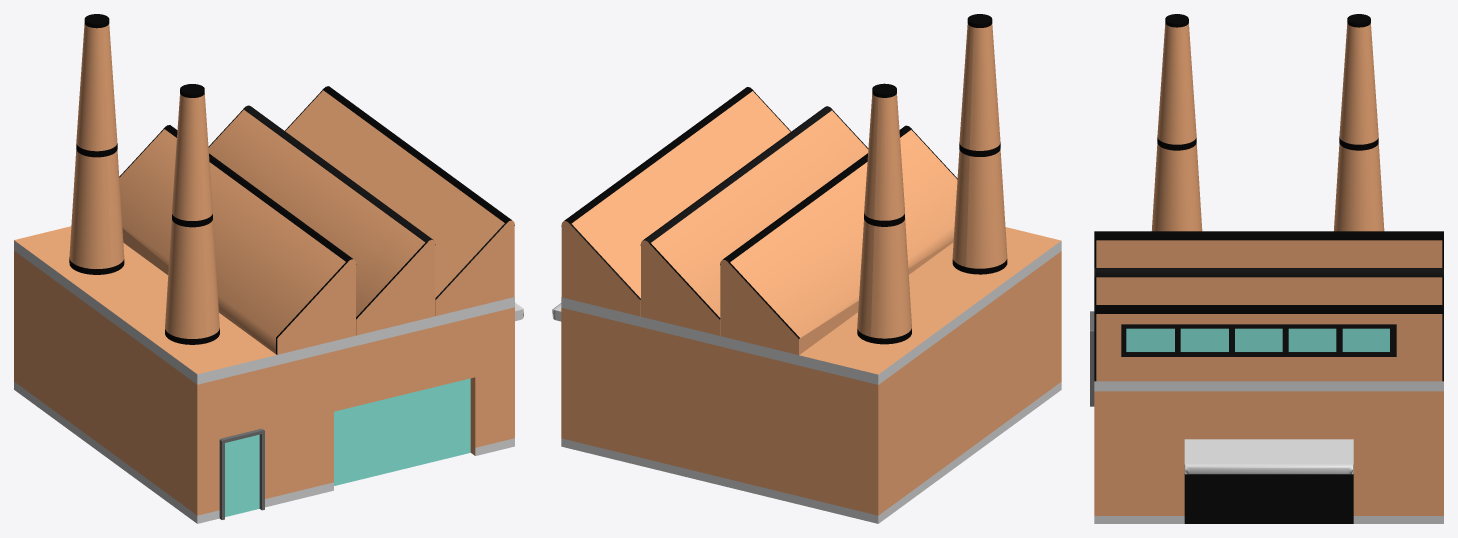
Rendered from Factory.fbx.
3 views of the same model, side by side, from view 1: azimuth 30°, elevation 25°; view 2: azimuth 150°, elevation 25°; view 3: azimuth 270°, elevation 25° (orthographic). The views are drawn at different scales.
Parts seen in each view (by area): view 1: Factory; view 2: Factory; view 3: Factory.
Boxes of the visible parts, bbox=[...] form: Factory: bbox=[14, 14, 523, 523]; Factory: bbox=[552, 14, 1061, 523]; Factory: bbox=[1090, 14, 1443, 523].
Bounding box in the file's own units: 469 × 469 × 401.
